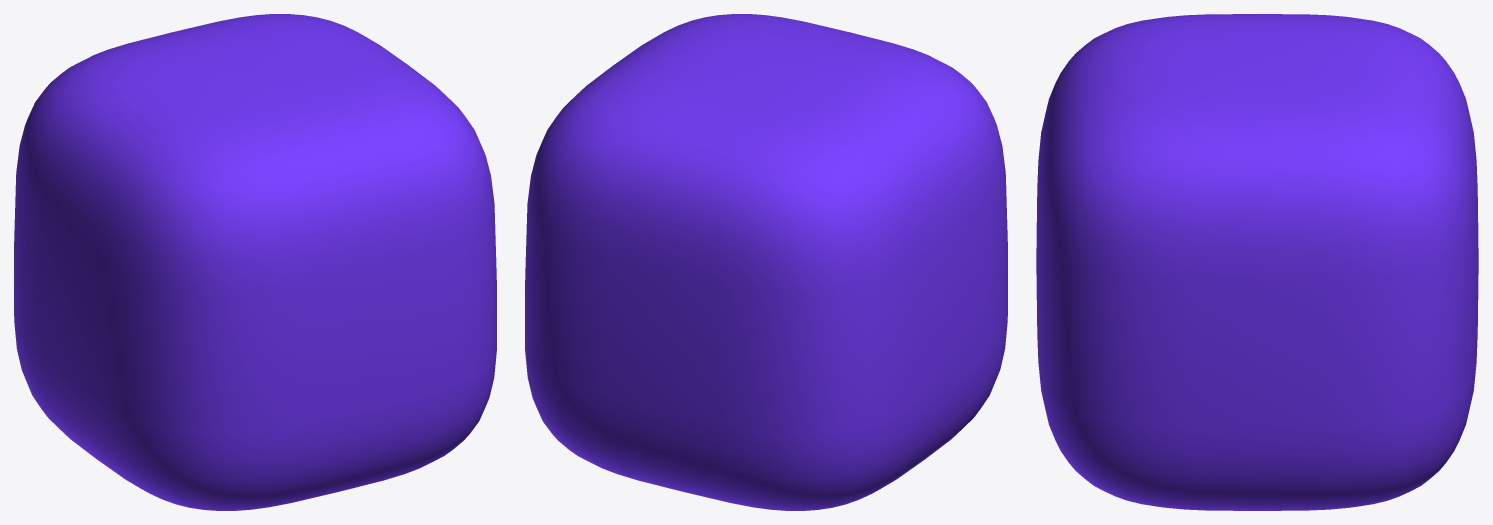
The model's file is slime_purple.glb.
3 renders of one model, left to right at view 1: azimuth 30°, elevation 25°; view 2: azimuth 150°, elevation 25°; view 3: azimuth 270°, elevation 25°, orthographic. The views are drawn at different scales.
Visible parts, largest first — view 1: PlainCube_Purple; view 2: PlainCube_Purple; view 3: PlainCube_Purple.
Boxes of the visible parts, x1,y1,x2,y2 form: PlainCube_Purple: (14, 14, 496, 510); PlainCube_Purple: (525, 14, 1007, 510); PlainCube_Purple: (1036, 14, 1478, 510).
Size of the model in its own units: 0.92 by 0.8968 by 0.92.
